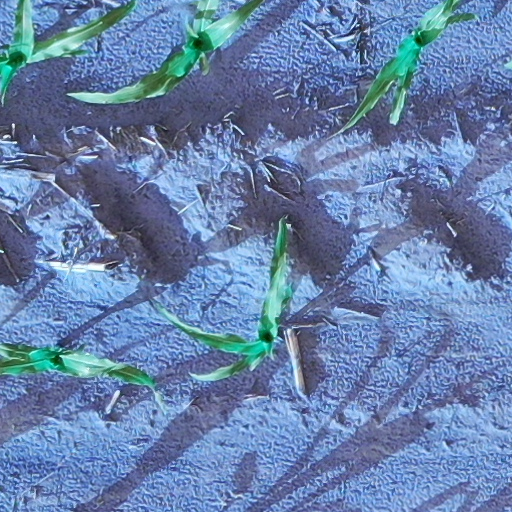planta: (155, 211, 299, 386)
